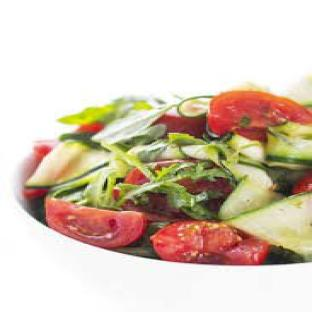Cucumber: (227, 192, 311, 259), (181, 146, 272, 188), (26, 142, 110, 187), (219, 177, 281, 220), (266, 123, 311, 165), (224, 164, 272, 188), (227, 134, 265, 162), (128, 145, 185, 162), (287, 75, 311, 107), (178, 96, 213, 117), (181, 146, 209, 159)
Tomato: (152, 221, 269, 265), (208, 91, 311, 140), (45, 199, 146, 248), (123, 193, 189, 222), (178, 179, 231, 212), (156, 114, 206, 137), (227, 238, 269, 265), (178, 179, 231, 194), (33, 140, 59, 162), (151, 160, 189, 170), (294, 172, 311, 194), (22, 188, 48, 200), (76, 123, 103, 132)
